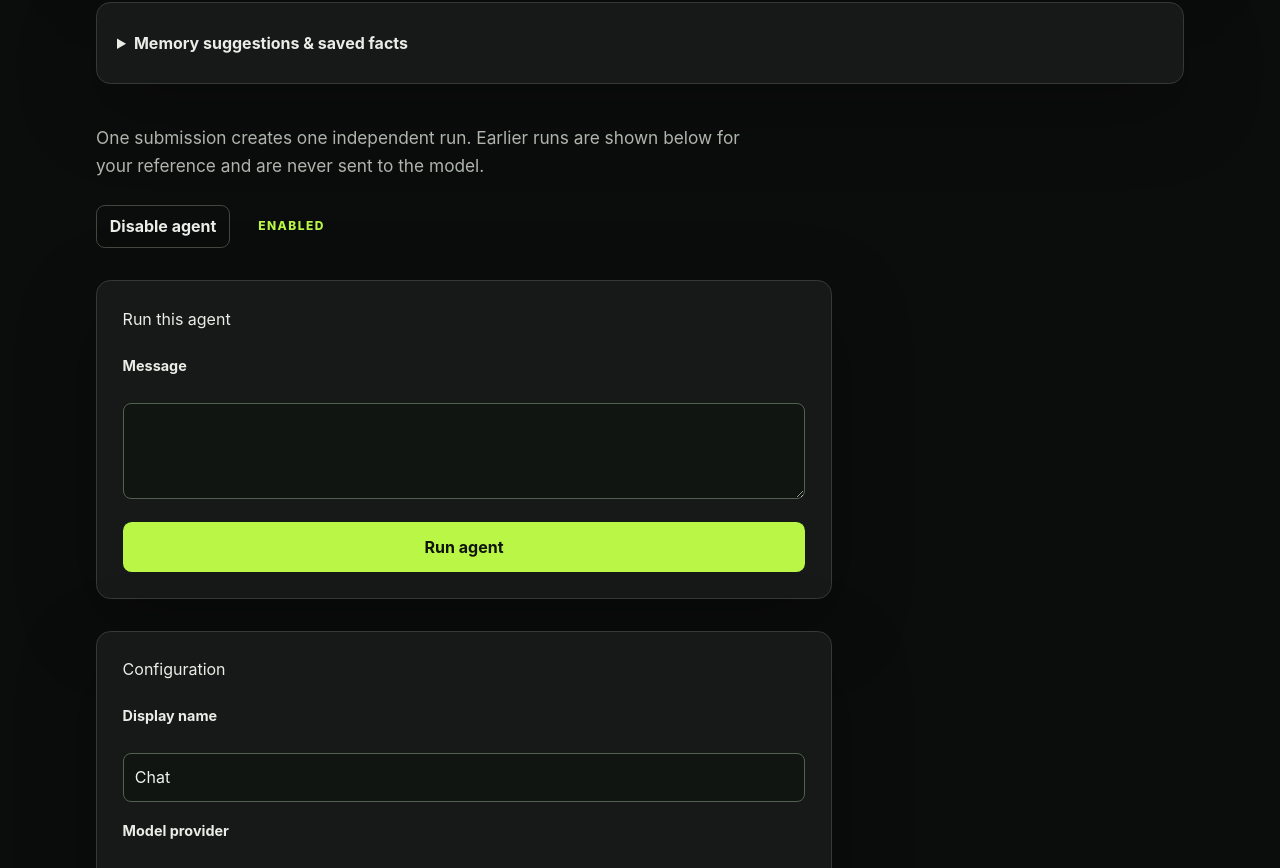
Test: agent detail page › surfaces the server's disabled-instance rejection inline
The width and height of the screenshot is (1280, 868).
(page scrolled)
Type "hello" into the text box labelled "Message".
click(464, 451); type("hello")  # box 123,403 -> 805,499
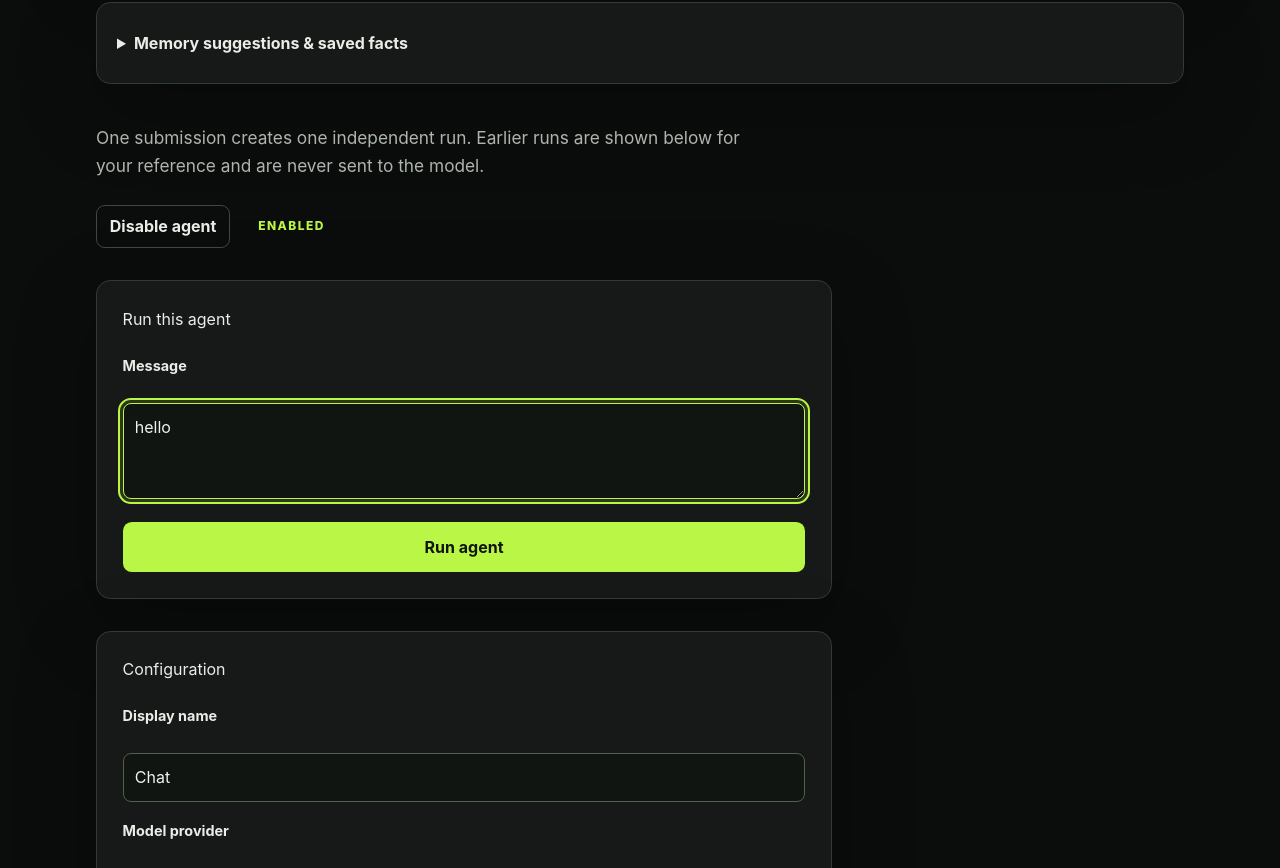
Click the button "Run agent".
click(464, 547)  # box 123,522 -> 805,572
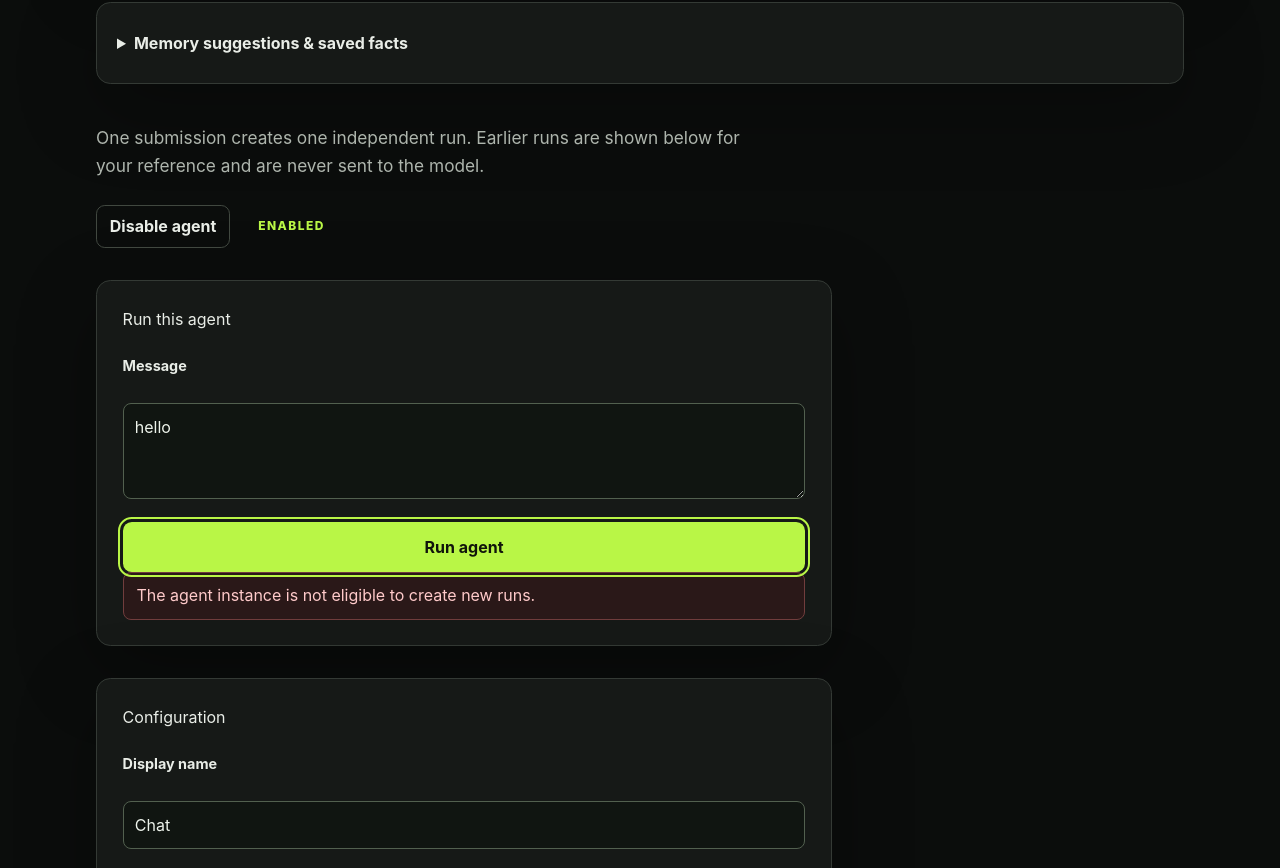
Result: the message reads "The agent instance is not eligible to create new runs." at 136,585 -> 535,605
